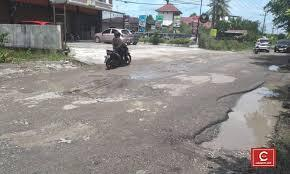Pothole: (183, 71, 280, 159), (17, 83, 183, 116), (8, 125, 101, 150), (0, 58, 92, 82), (254, 55, 290, 81), (164, 57, 208, 78), (124, 68, 169, 87)
